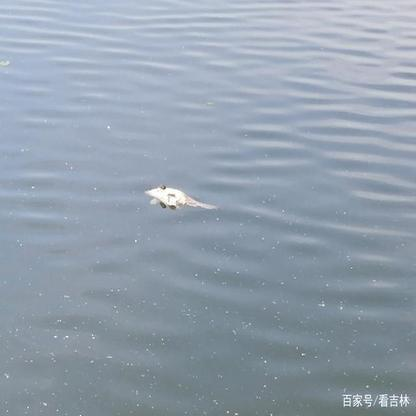deceased fish: (144, 183, 219, 214)
